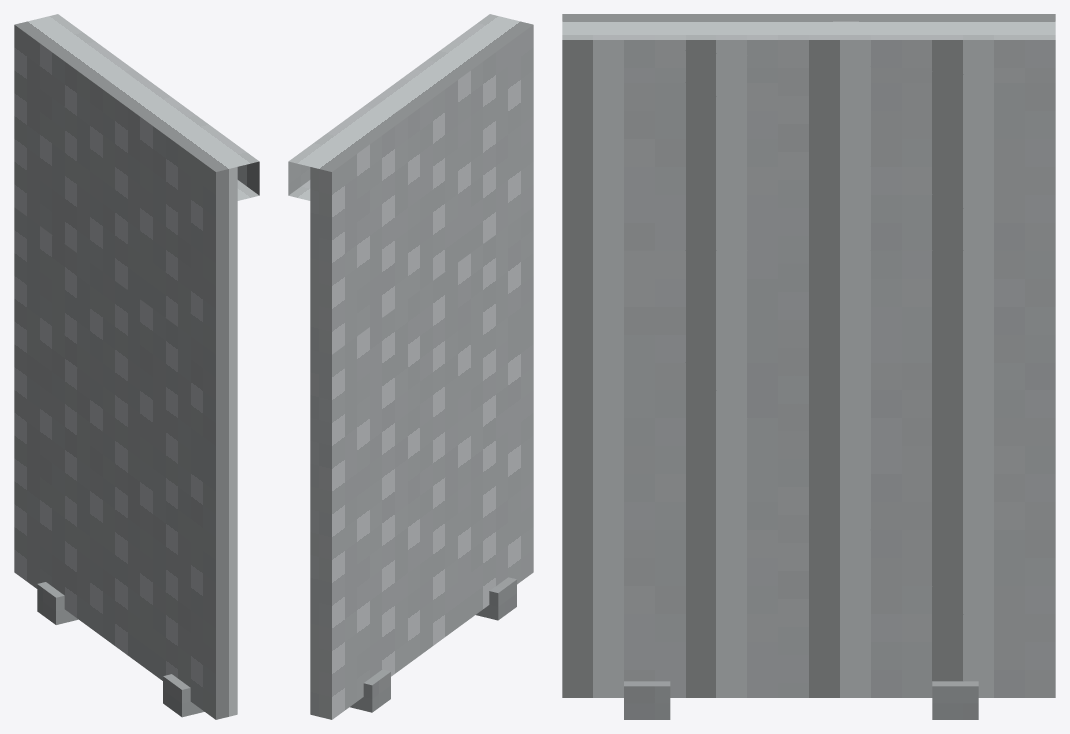
Rendered from aluminium_leaf_1_5.obj.
The picture shows the model from 3 angles, left to right: view 1: azimuth 30°, elevation 25°; view 2: azimuth 150°, elevation 25°; view 3: azimuth 270°, elevation 25°; orthographic projection. The views are drawn at different scales.
Parts seen in each view (by area): view 1: aluminium_leaf_1_5; view 2: aluminium_leaf_1_5; view 3: aluminium_leaf_1_5.
Part boxes in pixels (x1,y1,x2,y2): aluminium_leaf_1_5: (14,14,259,719); aluminium_leaf_1_5: (288,14,533,719); aluminium_leaf_1_5: (562,14,1055,719).
Size of the model in its own units: 0.15 by 1.54 by 1.
